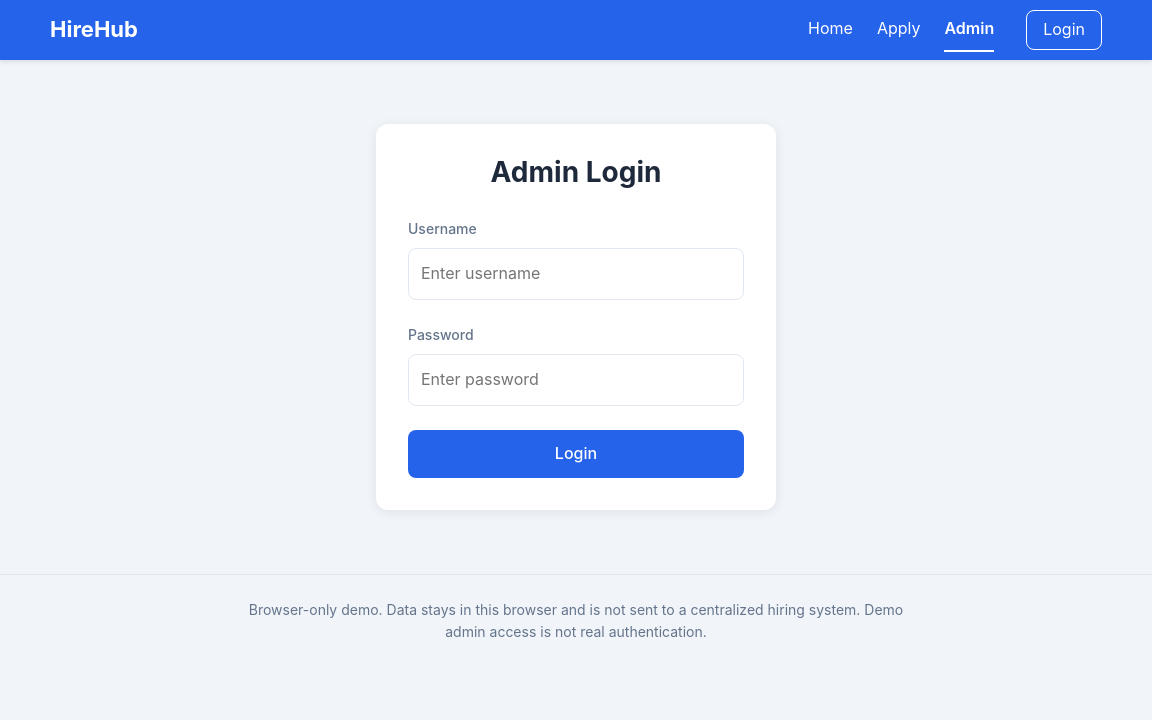
Test case: App › re-evaluates exact authorization on later route entries
Click the link "Home" at (830, 28), box [808,18,853,38]
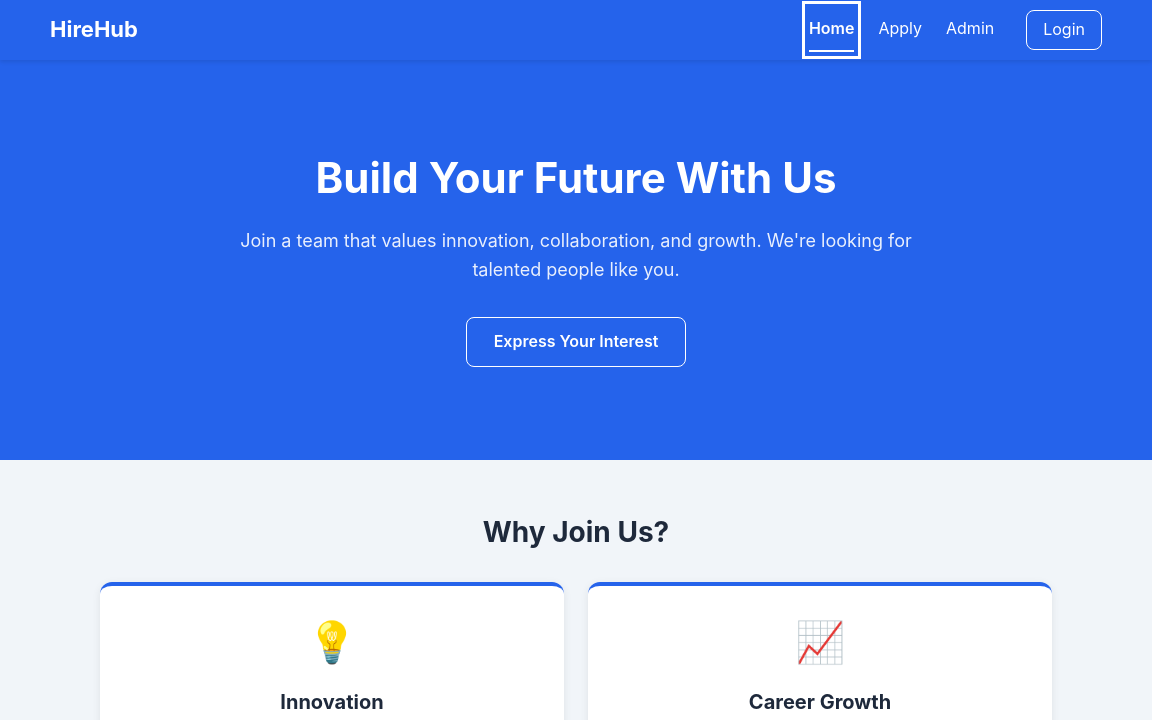
Click the link "Admin" at (970, 28), box [946,18,994,38]
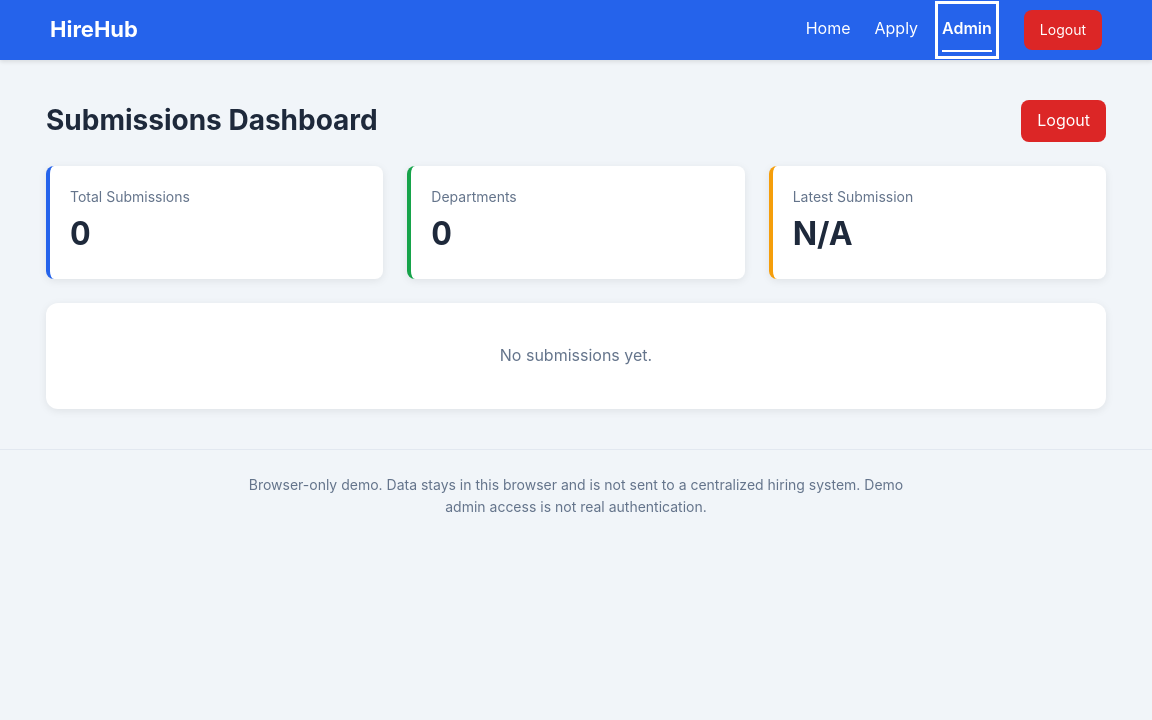
Expected: the heading "Submissions Dashboard" is shown, [46,104,378,138]
Click the link "Home" at (828, 28), box [806,18,850,38]
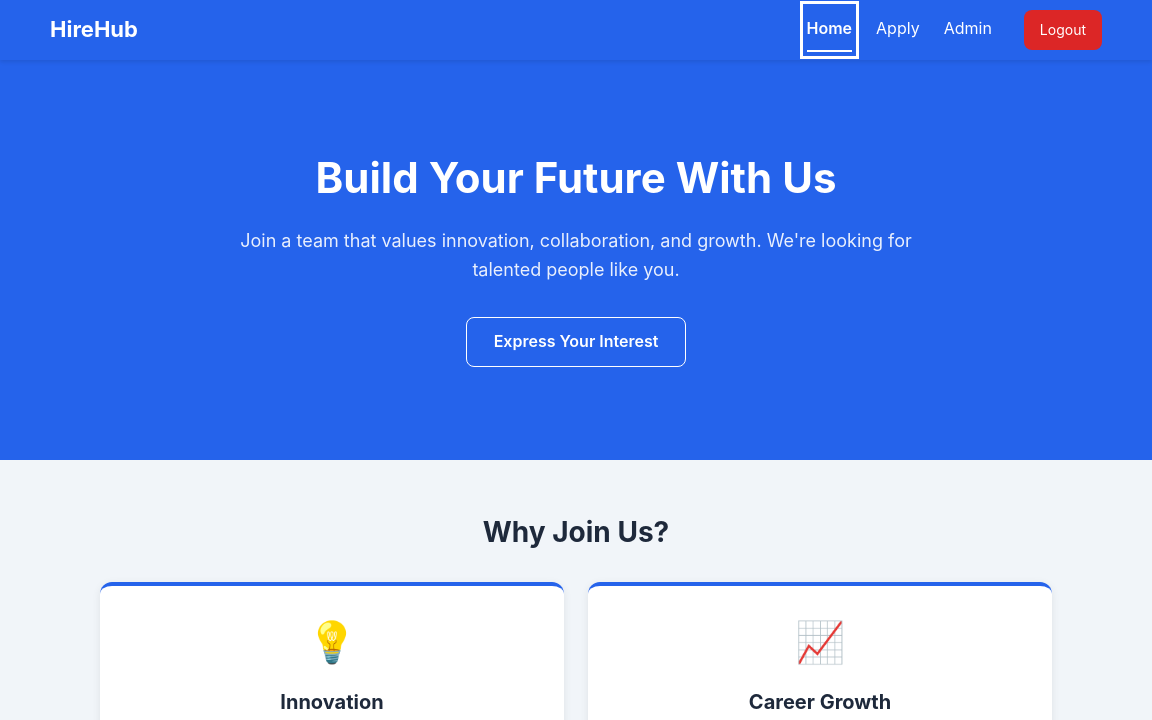
Click the link "Admin" at (968, 28), box [944,18,992,38]
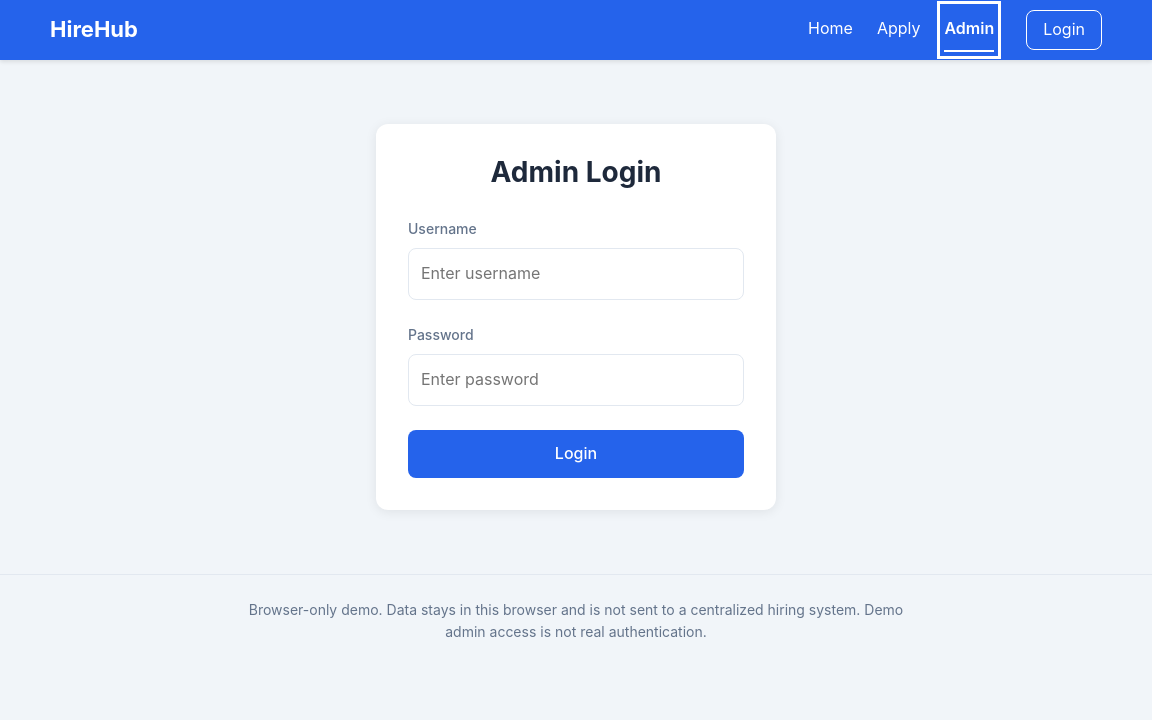
Expected: the heading "Admin Login" is shown, [491,155,661,189]
